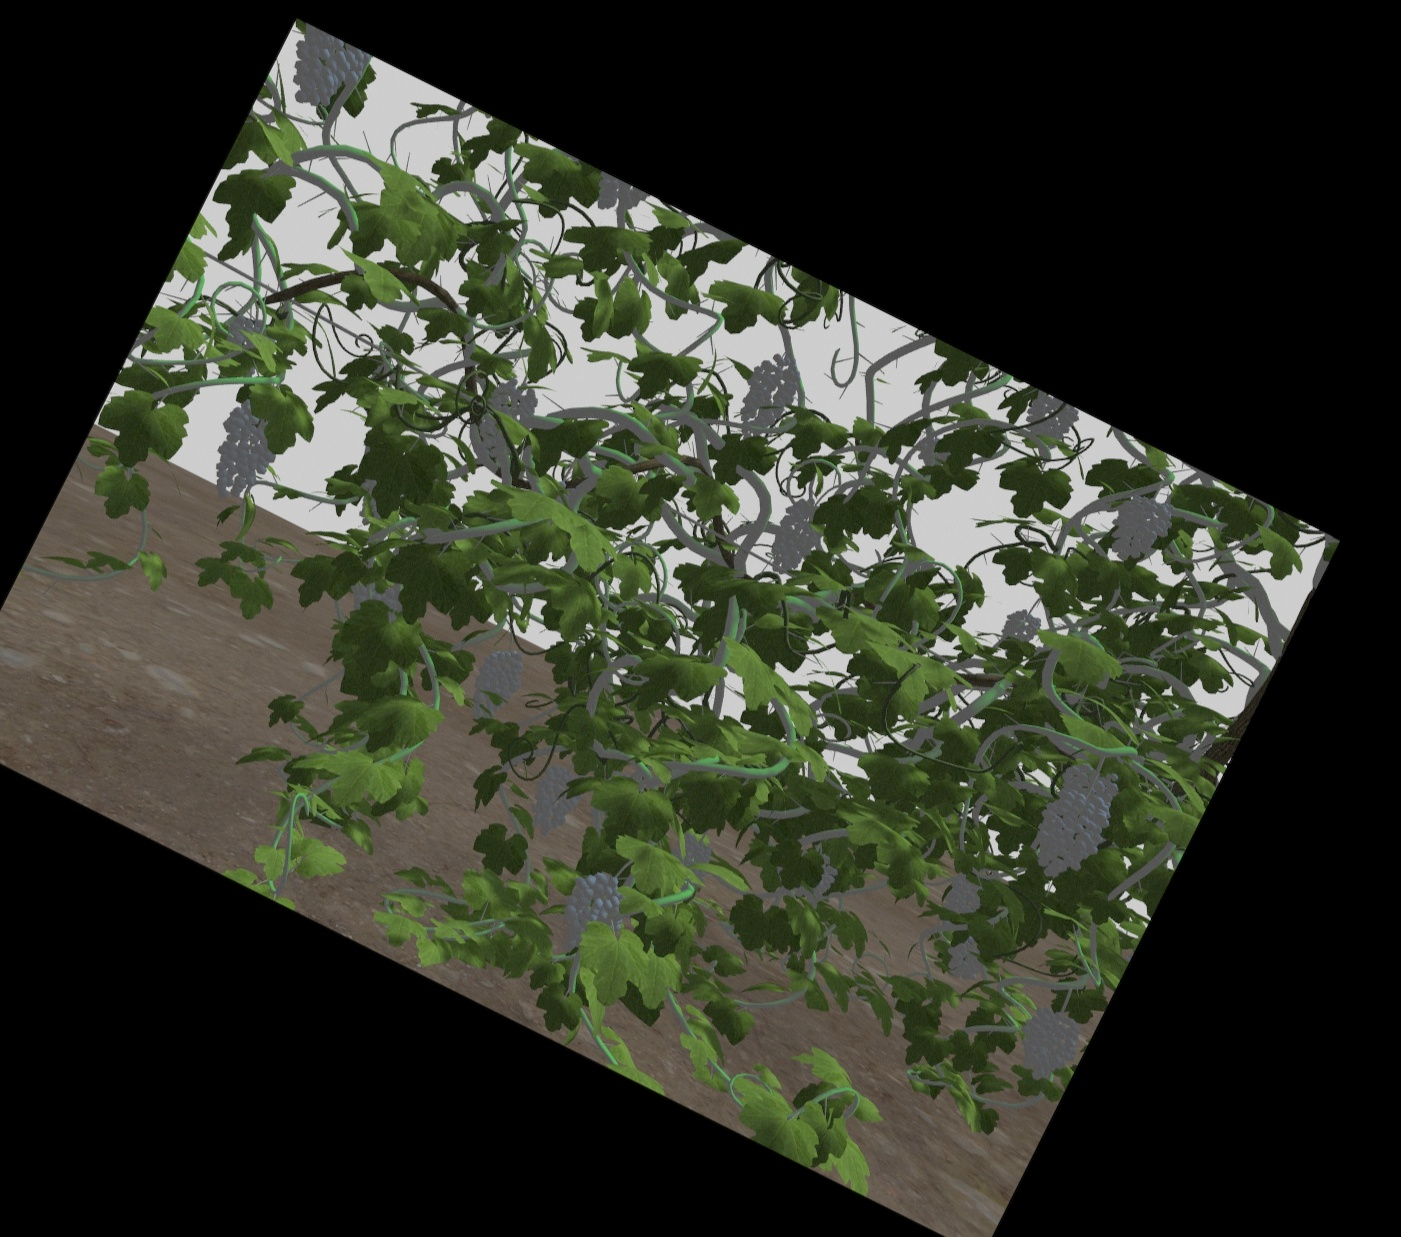grape: (213, 410, 271, 497), (285, 42, 354, 107), (741, 353, 789, 441), (1039, 798, 1090, 879), (564, 872, 612, 956), (1018, 1011, 1075, 1081), (531, 759, 578, 835), (1111, 497, 1163, 562), (483, 383, 528, 457), (774, 500, 815, 574), (475, 650, 516, 712), (1024, 402, 1069, 451), (1062, 765, 1116, 802), (941, 875, 976, 929), (1003, 610, 1036, 646), (948, 944, 981, 979)
